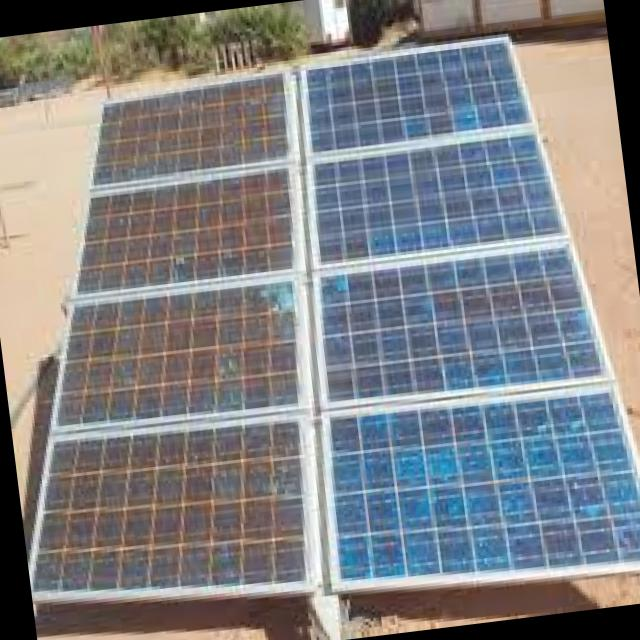faulty: (30, 38, 640, 595)
